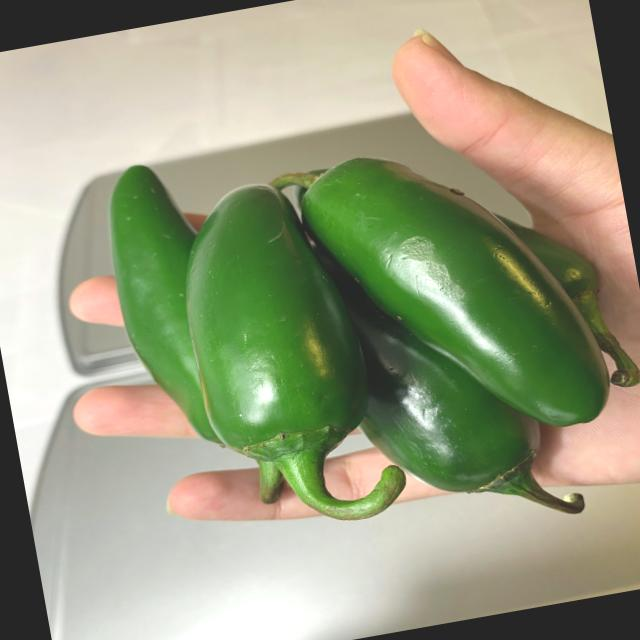chilli: (97, 77, 640, 595)
